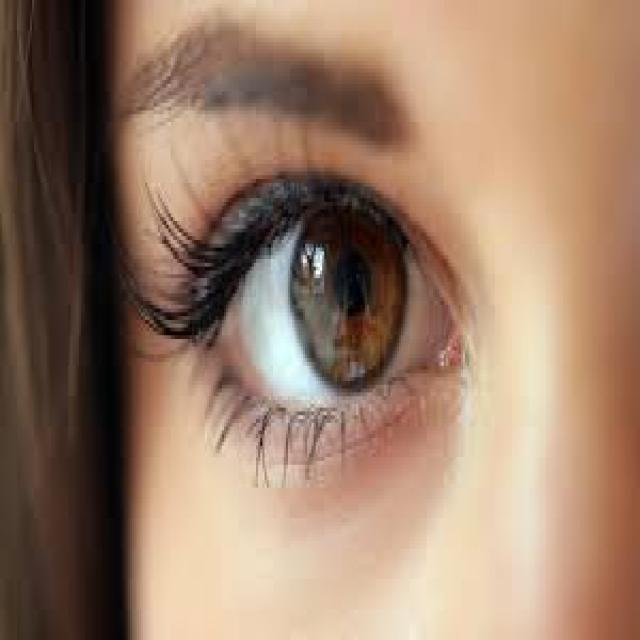Normal: (119, 108, 478, 532)
